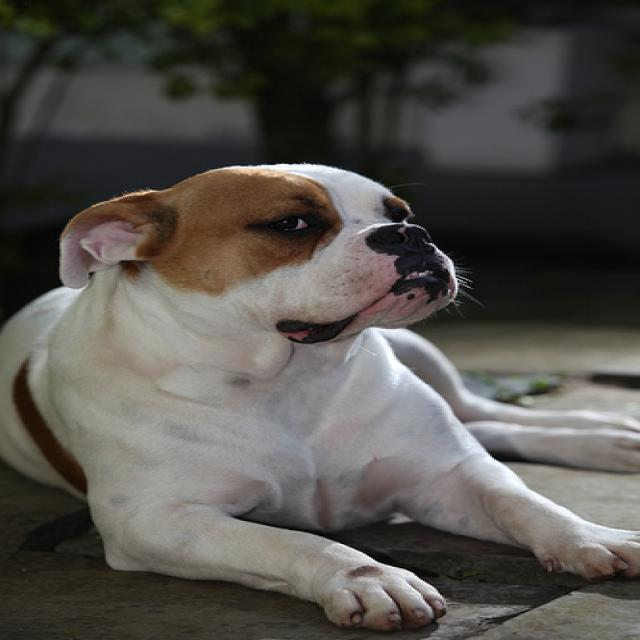dog-american_bulldog: (2, 142, 636, 637)
